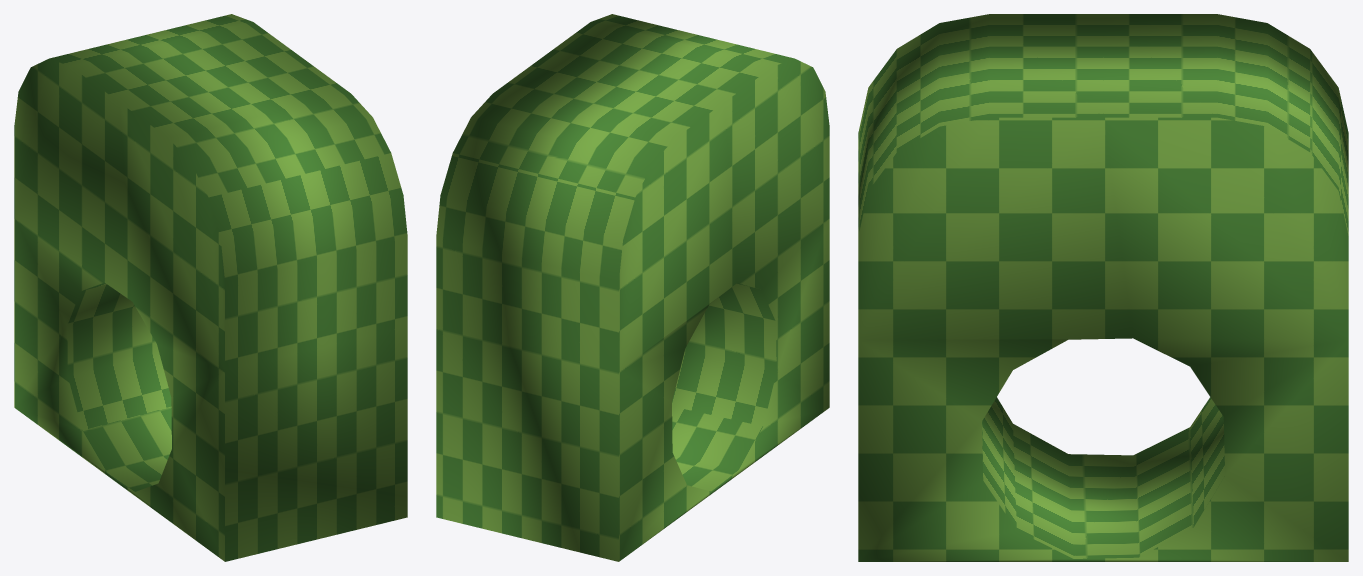
Rendered from Hole.fbx.
3 views of the same model, side by side, from view 1: azimuth 30°, elevation 25°; view 2: azimuth 150°, elevation 25°; view 3: azimuth 270°, elevation 25° (orthographic). The views are drawn at different scales.
Parts seen in each view (by area): view 1: Cube; view 2: Cube; view 3: Cube.
Boxes of the visible parts, left/top/right/bottom form: Cube: left=14, top=14, right=407, bottom=561; Cube: left=436, top=14, right=829, bottom=561; Cube: left=858, top=14, right=1348, bottom=561.
Bounding box in the file's own units: 200 × 400 × 400.
Materials: 1 (1 with a texture image).
